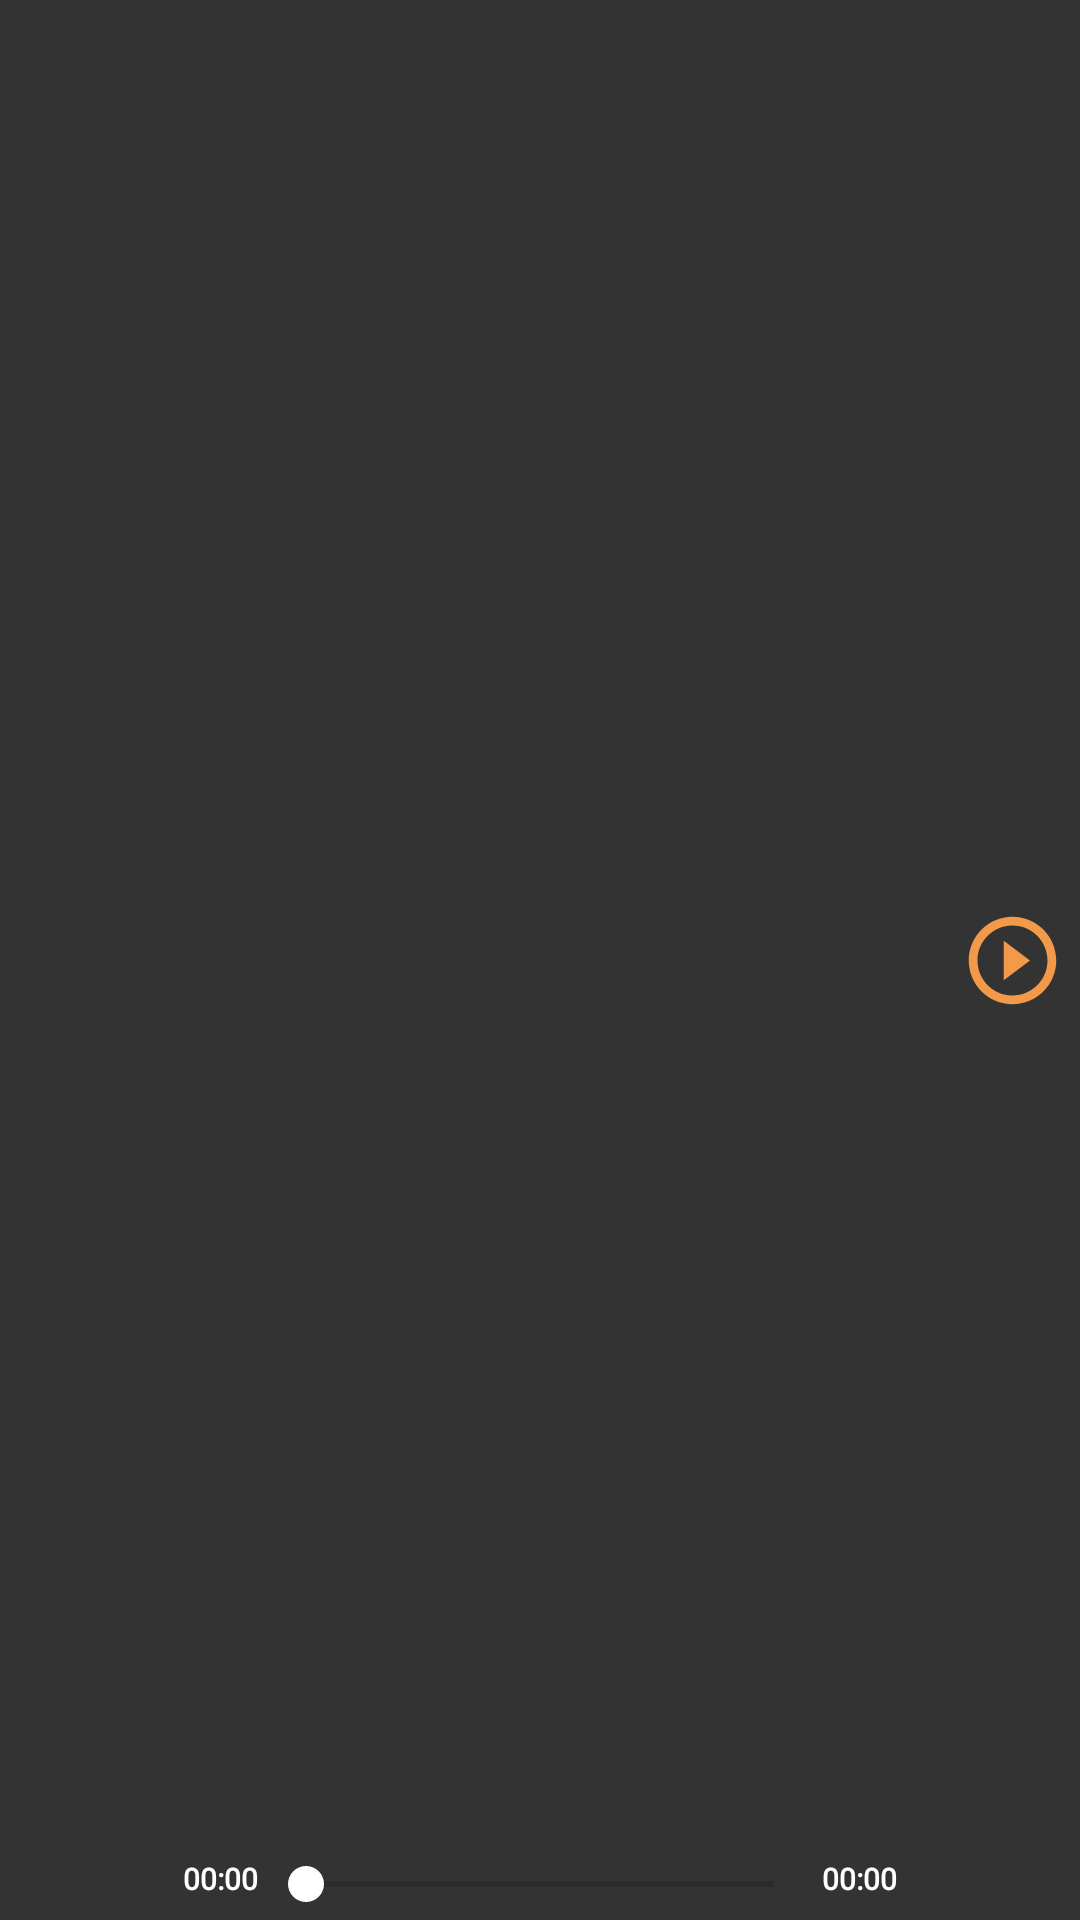

Screen size 1080w x 1920h. Icon name, then its box in pixels as (x1, y1, x2, y2):
play circle: (968, 916, 1057, 1005)
